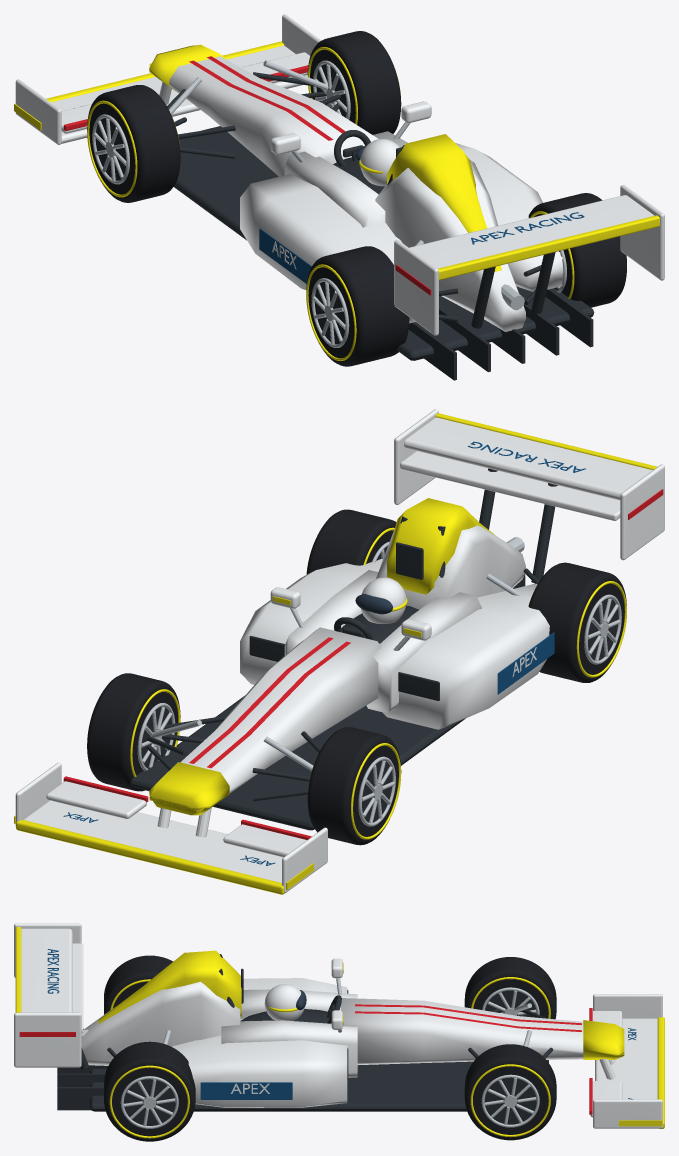
Rendered from car.glb.
The picture shows the model from 3 angles, top to bottom: view 1: azimuth 30°, elevation 25°; view 2: azimuth 150°, elevation 25°; view 3: azimuth 270°, elevation 25°; orthographic projection. The views are drawn at different scales.
Parts seen in each view (by area): view 1: Static_Geometry, Wheel_RL_Geometry, Wheel_FL_Geometry, Wheel_FR_Geometry, Wheel_RR_Geometry; view 2: Static_Geometry, Wheel_FL_Geometry, Wheel_RL_Geometry, Wheel_FR_Geometry, Wheel_RR_Geometry; view 3: Static_Geometry, Wheel_RR_Geometry, Wheel_FR_Geometry, Wheel_FL_Geometry, Wheel_RL_Geometry.
Part boxes in pixels (x1,y1,x2,y2): Static_Geometry: (14,14,664,380); Wheel_RL_Geometry: (306,246,409,366); Wheel_FL_Geometry: (87,85,180,202); Wheel_FR_Geometry: (307,31,401,134); Wheel_RR_Geometry: (528,193,626,307); Static_Geometry: (14,409,664,894); Wheel_FL_Geometry: (307,727,401,845); Wheel_RL_Geometry: (528,562,626,682); Wheel_FR_Geometry: (87,673,180,791); Wheel_RR_Geometry: (306,509,396,574); Static_Geometry: (14,923,664,1128); Wheel_RR_Geometry: (104,1041,195,1141); Wheel_FR_Geometry: (464,1044,556,1140); Wheel_FL_Geometry: (464,957,556,1019); Wheel_RL_Geometry: (104,955,172,1014).
Bounding box in the file's own units: 2.03 × 1.14 × 5.1.
